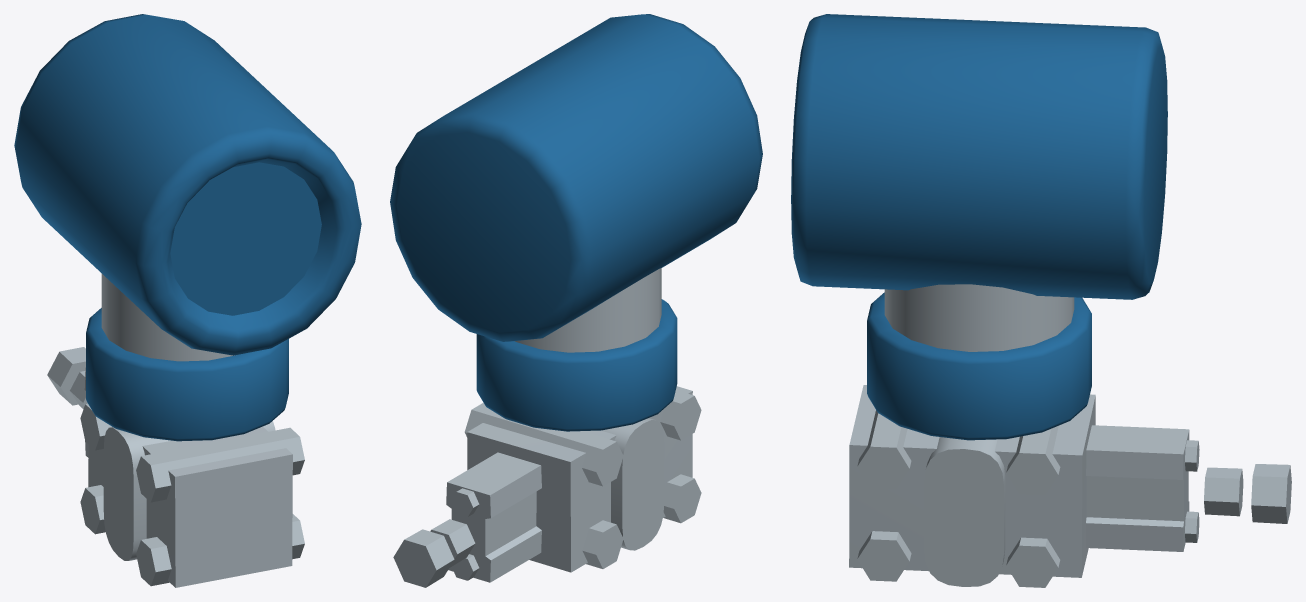
Rendered from 变送器总成.glb.
3 renders of one model, left to right at view 1: azimuth 30°, elevation 25°; view 2: azimuth 150°, elevation 25°; view 3: azimuth 270°, elevation 25°, orthographic. The views are drawn at different scales.
Parts seen in each view (by area): view 1: 变送器_电子外壳, 变送器_连接块, 变送器_下壳盖, 变送器_过程接口, 变送器总成_连接件_45, 变送器_连接座, 变送器总成_连接件_36, 变送器总成_连接件_32, 变送器总成_连接件_37, 变送器总成_连接件_46; view 2: 变送器_电子外壳, 变送器_下壳盖, 变送器_连接块, 变送器总成_连接件_29, 变送器_过程接口, 变送器_连接座, 变送器总成_连接件_46, 变送器总成_连接件_32, 变送器总成_连接件_37, 变送器总成_连接件_36, 变送器总成_连接件_45, 变送器总成_连接件_33 (+1 smaller); view 3: 变送器_电子外壳, 变送器_下壳盖, 变送器_连接块, 变送器总成_连接件_29, 变送器_过程接口, 变送器_连接座, 变送器总成_连接件_45, 变送器总成_连接件_46, 变送器总成_连接件_32, 变送器总成_连接件_36, 变送器总成_连接件_37, 变送器总成_连接件_33.
Boxes of the visible parts, x1,y1,x2,y2 form: 变送器_电子外壳: [14, 14, 361, 355]; 变送器_连接块: [88, 426, 292, 587]; 变送器_下壳盖: [86, 308, 288, 441]; 变送器_过程接口: [103, 421, 275, 560]; 变送器总成_连接件_45: [136, 427, 304, 502]; 变送器_连接座: [101, 274, 234, 361]; 变送器总成_连接件_36: [136, 514, 304, 586]; 变送器总成_连接件_32: [47, 347, 85, 405]; 变送器总成_连接件_37: [80, 485, 105, 534]; 变送器总成_连接件_46: [80, 403, 111, 450]; 变送器_电子外壳: [390, 14, 762, 341]; 变送器_下壳盖: [476, 299, 677, 431]; 变送器_连接块: [467, 386, 692, 572]; 变送器总成_连接件_29: [446, 452, 541, 582]; 变送器_过程接口: [601, 418, 664, 550]; 变送器_连接座: [515, 268, 661, 352]; 变送器总成_连接件_46: [464, 403, 623, 486]; 变送器总成_连接件_32: [393, 529, 454, 587]; 变送器总成_连接件_37: [582, 520, 623, 568]; 变送器总成_连接件_36: [663, 474, 701, 523]; 变送器总成_连接件_45: [660, 390, 701, 440]; 变送器总成_连接件_33: [430, 519, 475, 567]; 变送器_电子外壳: [791, 14, 1167, 299]; 变送器_下壳盖: [867, 292, 1091, 440]; 变送器_连接块: [849, 385, 1095, 577]; 变送器总成_连接件_29: [1086, 425, 1189, 551]; 变送器_过程接口: [924, 437, 1005, 586]; 变送器_连接座: [884, 284, 1074, 351]; 变送器总成_连接件_45: [857, 410, 911, 488]; 变送器总成_连接件_46: [1006, 426, 1060, 495]; 变送器总成_连接件_32: [1251, 464, 1291, 523]; 变送器总成_连接件_36: [857, 531, 911, 581]; 变送器总成_连接件_37: [1006, 537, 1060, 587]; 变送器总成_连接件_33: [1204, 467, 1243, 516].
Bounding box in the file's own units: 0.0474 × 0.0887 × 0.078.
